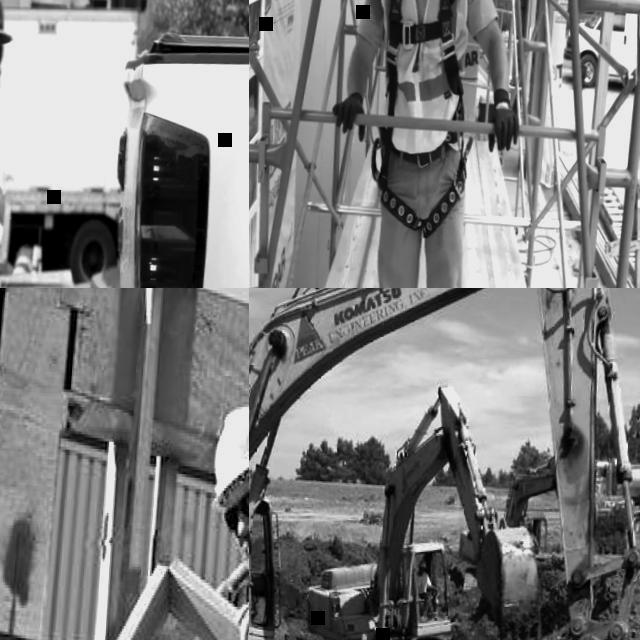helmet: (202, 399, 249, 510), (417, 560, 427, 568)
machinery: (249, 288, 640, 640), (292, 376, 559, 640), (588, 451, 640, 521)
no_mask: (236, 531, 249, 574), (417, 570, 423, 576)
no_vest: (414, 573, 427, 595)
person: (309, 0, 539, 288), (96, 393, 249, 640), (409, 560, 438, 615)
safety_cone: (11, 245, 31, 274)
vehicle: (5, 12, 249, 288), (557, 0, 640, 101)
vest: (362, 0, 477, 151)
